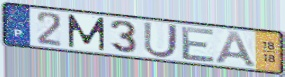2: (36, 11, 63, 48)
3: (109, 20, 140, 55)
A: (214, 30, 259, 69)
E: (180, 26, 217, 64)
M: (66, 13, 107, 52)
U: (142, 21, 180, 60)
